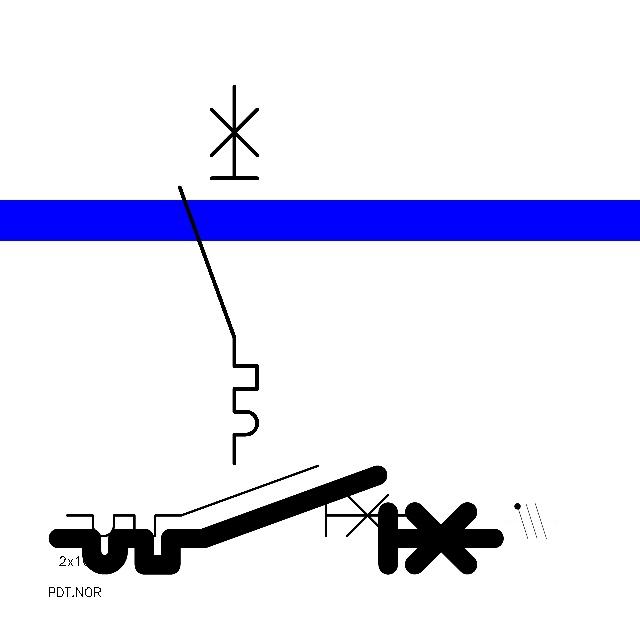interruptor_termomagnetico: (47, 464, 505, 576), (170, 77, 267, 473), (58, 457, 418, 545)
